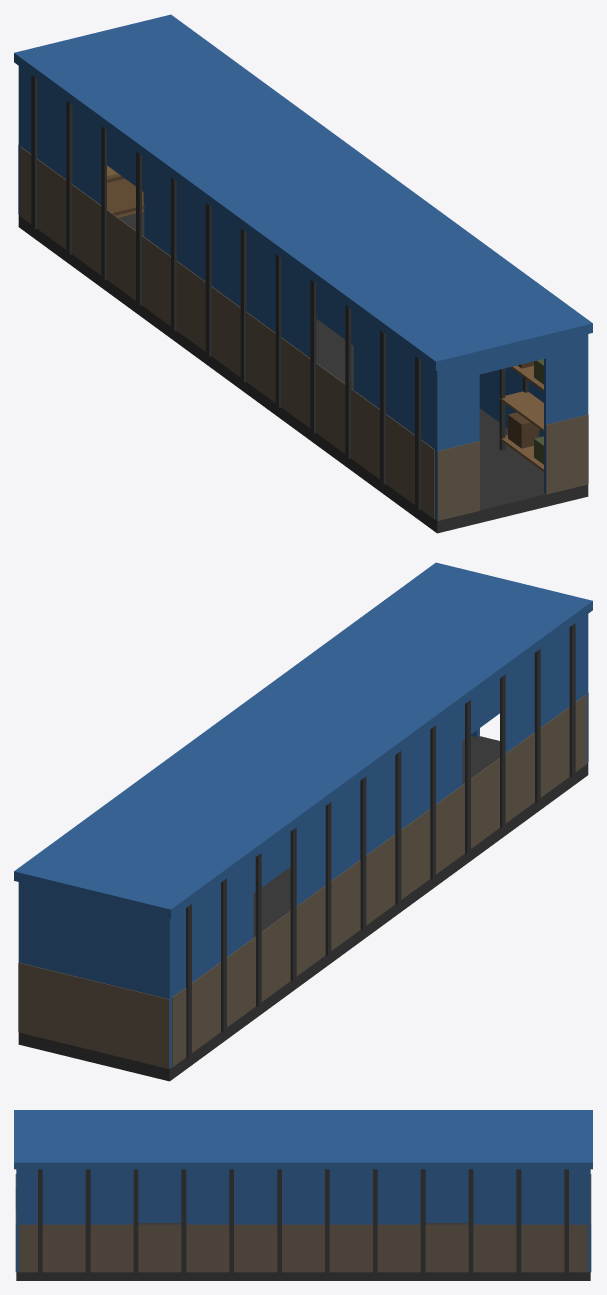
The model's file is container_escritorio_a.glb.
The picture shows the model from 3 angles, top to bottom: view 1: azimuth 30°, elevation 25°; view 2: azimuth 150°, elevation 25°; view 3: azimuth 270°, elevation 25°; orthographic projection. The views are drawn at different scales.
Parts seen in each view (by area): view 1: container_escritorio_a; view 2: container_escritorio_a; view 3: container_escritorio_a.
Boxes of the visible parts, <box> form: container_escritorio_a: <box>14,14,592,533</box>; container_escritorio_a: <box>14,562,592,1081</box>; container_escritorio_a: <box>14,1110,592,1280</box>.
Size of the model in its own units: 2.6 by 2.75 by 12.1.
